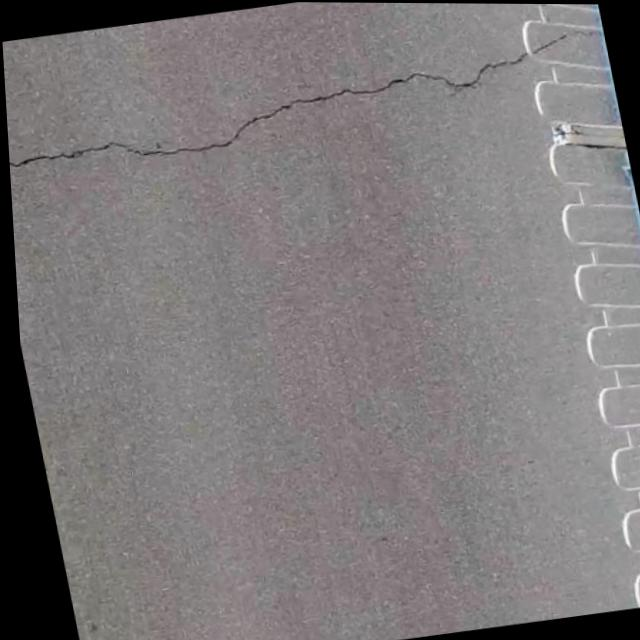Crack: (1, 31, 592, 194)
